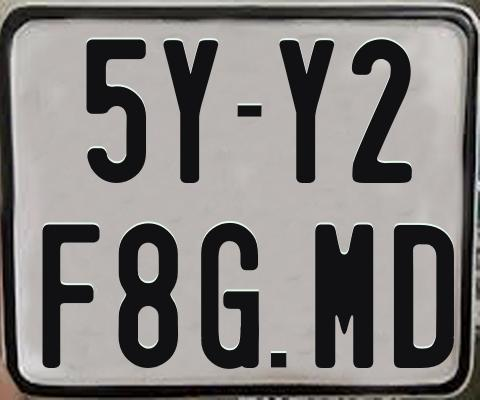2: (350, 36, 410, 183)
5: (86, 36, 149, 183)
8: (117, 223, 179, 373)
D: (391, 222, 453, 365)
F: (42, 222, 100, 372)
G: (200, 223, 262, 371)
M: (312, 222, 372, 366)
Y: (161, 37, 221, 185), (278, 40, 336, 188)
